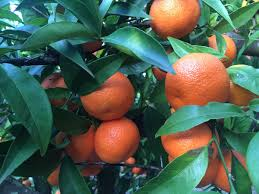orange: (160, 52, 231, 115), (160, 114, 222, 163), (75, 72, 138, 119), (53, 124, 105, 176), (94, 116, 143, 166), (162, 149, 220, 188), (147, 1, 203, 38)
